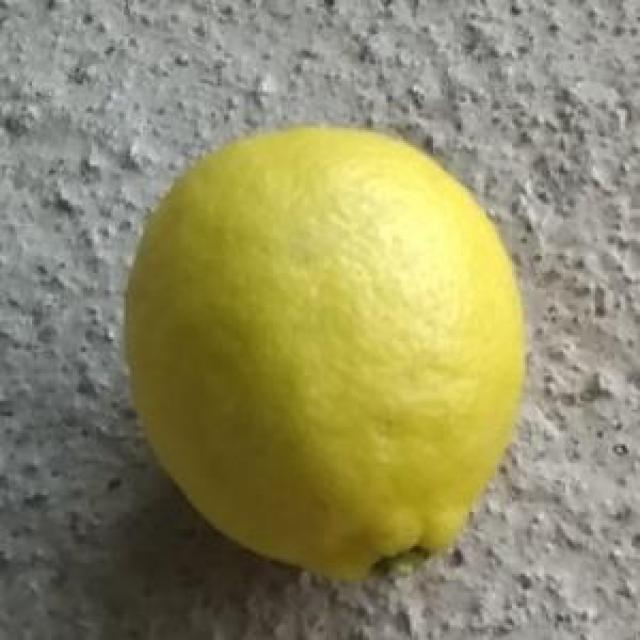lemon: (121, 123, 524, 582)
